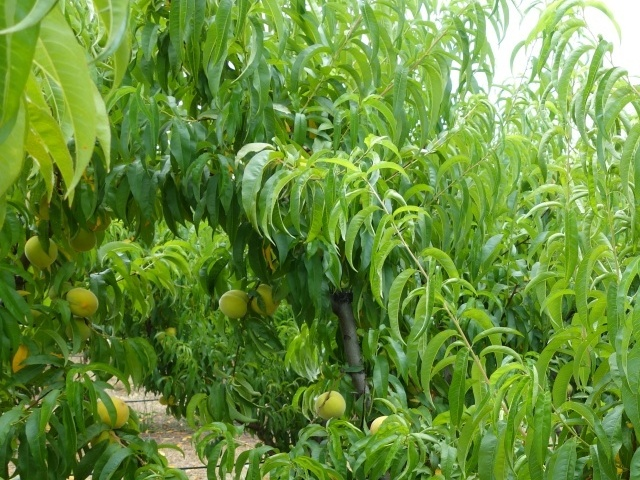peach: (89, 393, 133, 431), (22, 233, 62, 271), (61, 286, 102, 320), (312, 390, 350, 426), (213, 287, 252, 321), (246, 281, 281, 318), (66, 224, 98, 256), (63, 312, 95, 342)
